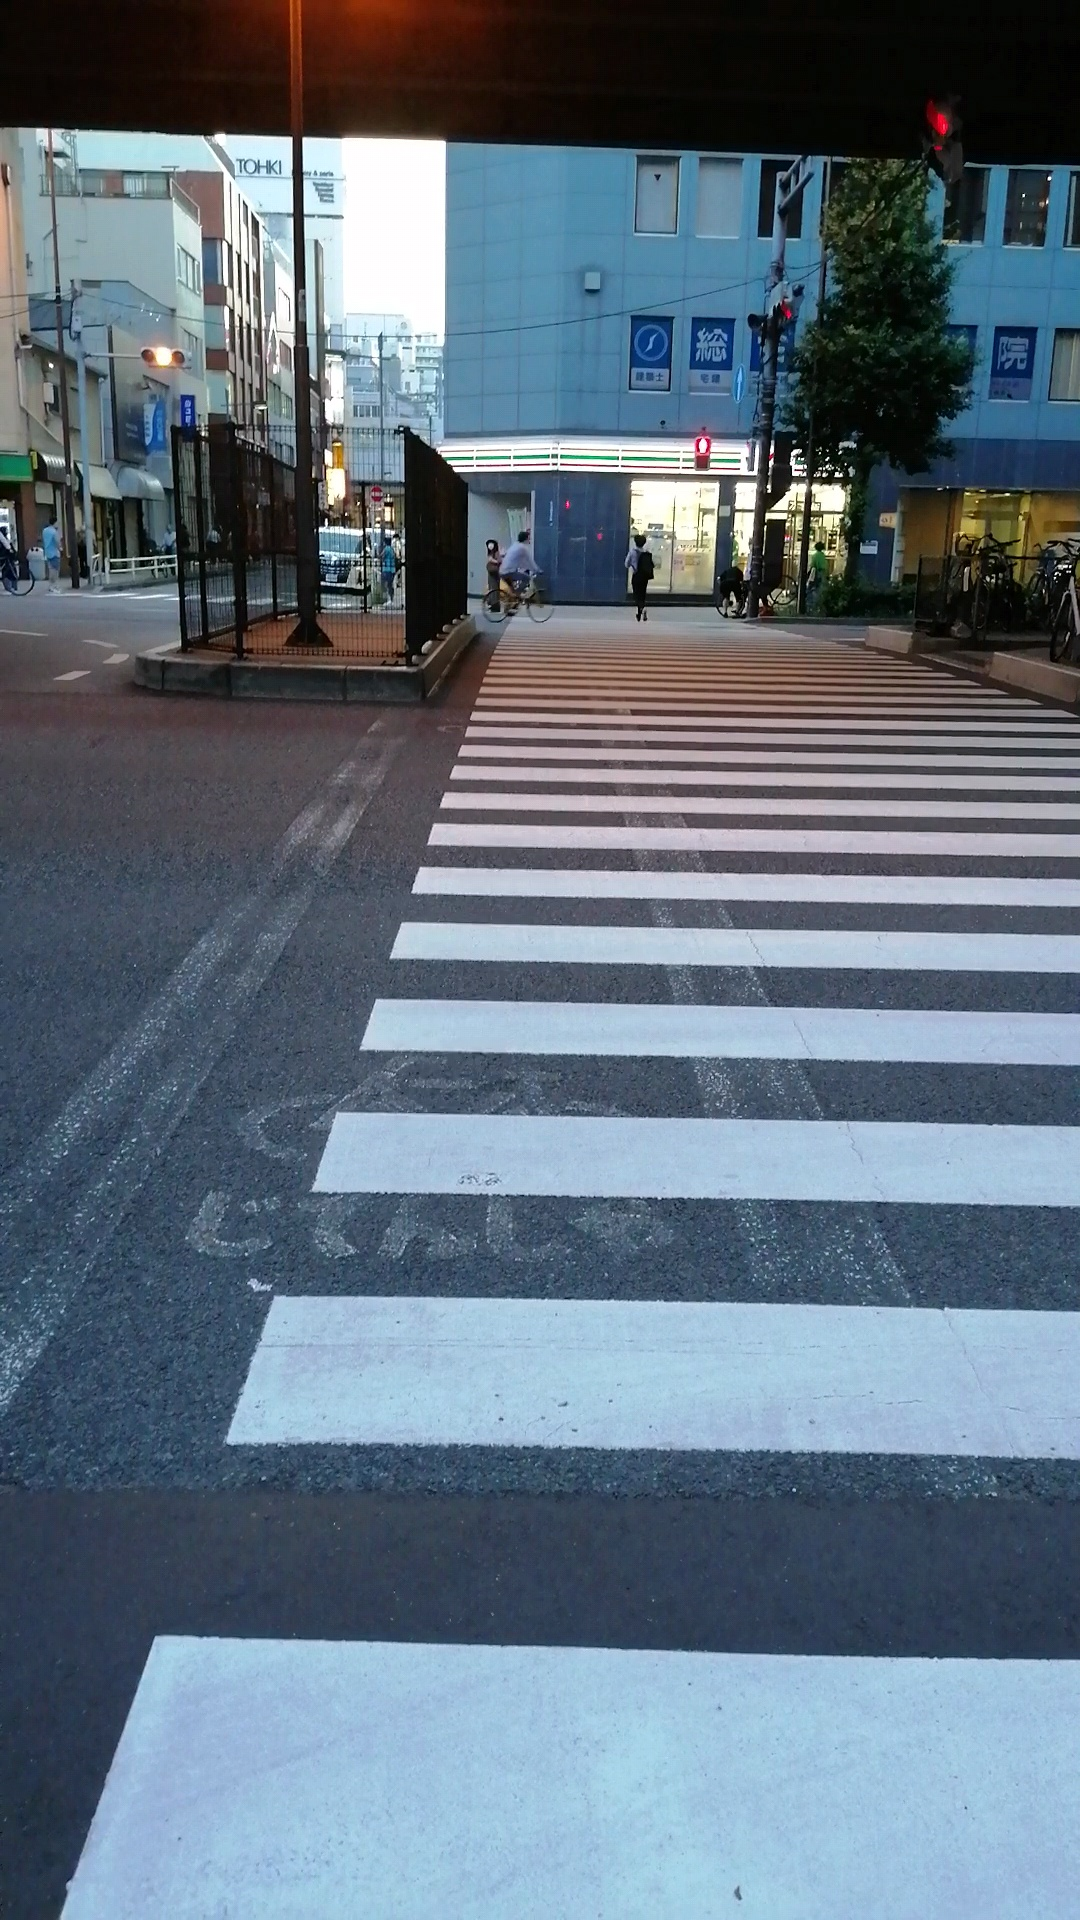red: (694, 434, 711, 472)
